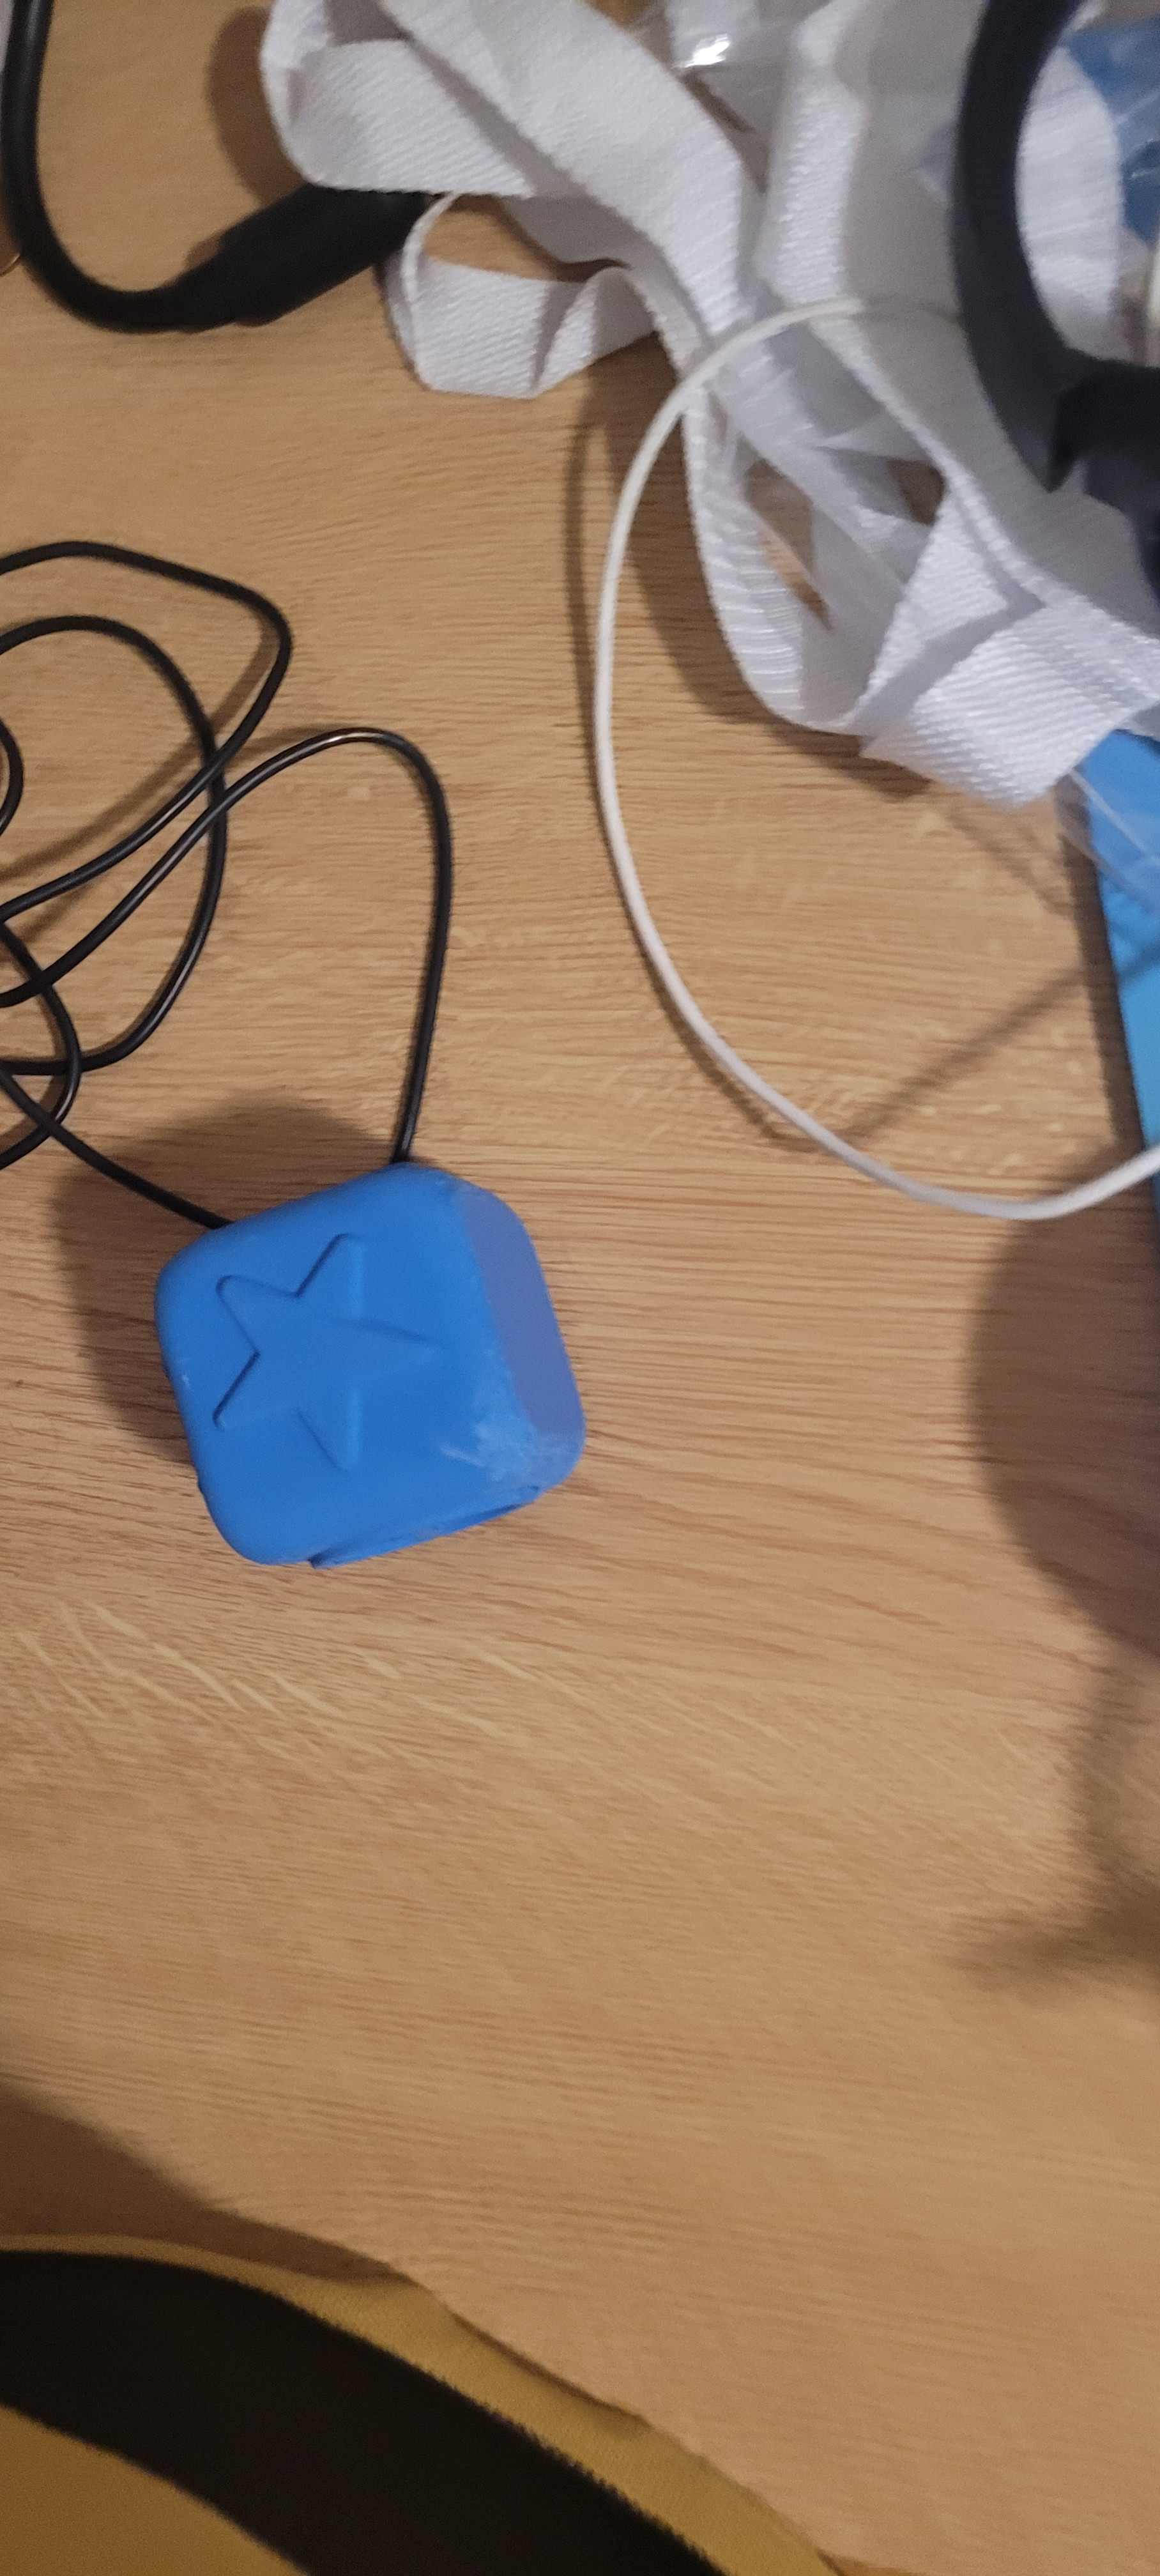Star: (189, 1211, 490, 1480)
